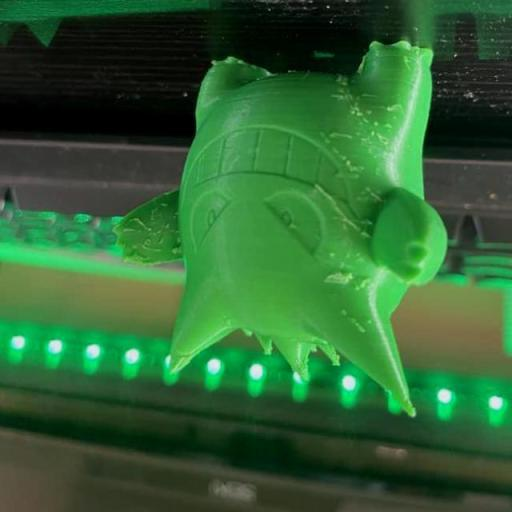blobs: (370, 118, 384, 128), (356, 108, 365, 118), (326, 251, 337, 259), (348, 110, 358, 118)
